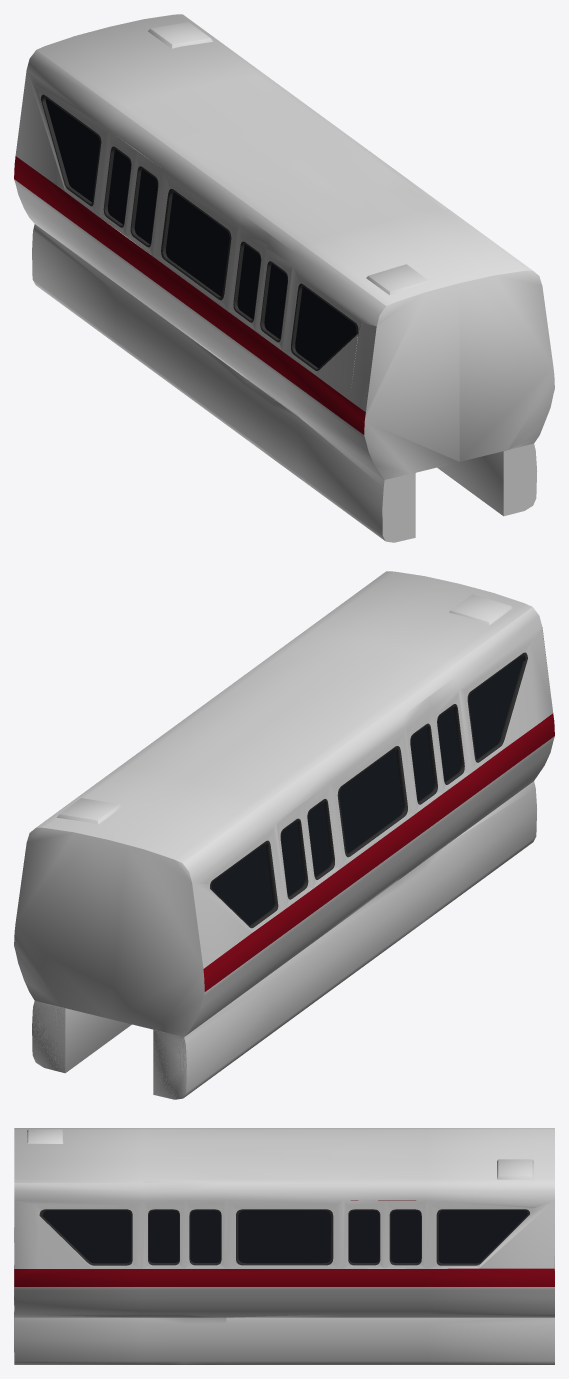
The picture shows the model from 3 angles, top to bottom: view 1: azimuth 30°, elevation 25°; view 2: azimuth 150°, elevation 25°; view 3: azimuth 270°, elevation 25°; orthographic projection. The views are drawn at different scales.
Parts seen in each view (by area): view 1: 1392706565.Mark VI (6).001; view 2: 1392706565.Mark VI (6).001; view 3: 1392706565.Mark VI (6).001.
Part boxes in pixels (x1,y1,x2,y2): 1392706565.Mark VI (6).001: [14, 14, 554, 542]; 1392706565.Mark VI (6).001: [14, 571, 554, 1099]; 1392706565.Mark VI (6).001: [14, 1128, 554, 1364].
Bounding box in the file's own units: 2.49 × 3.07 × 7.91.
